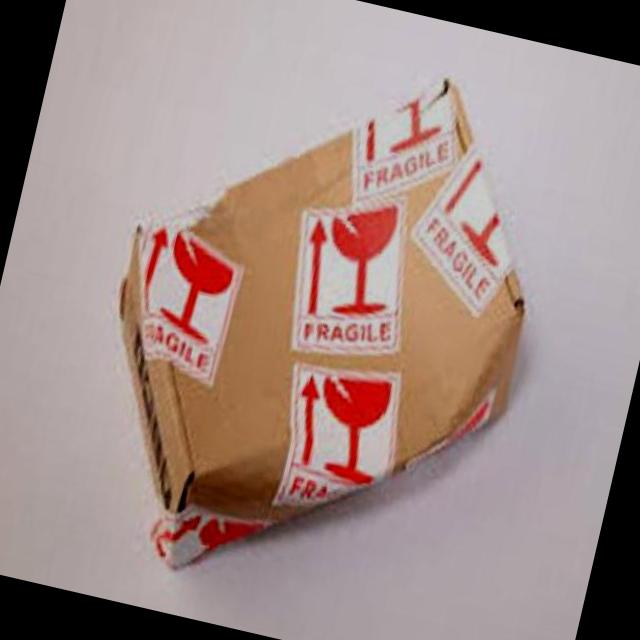box: (99, 69, 509, 610)
